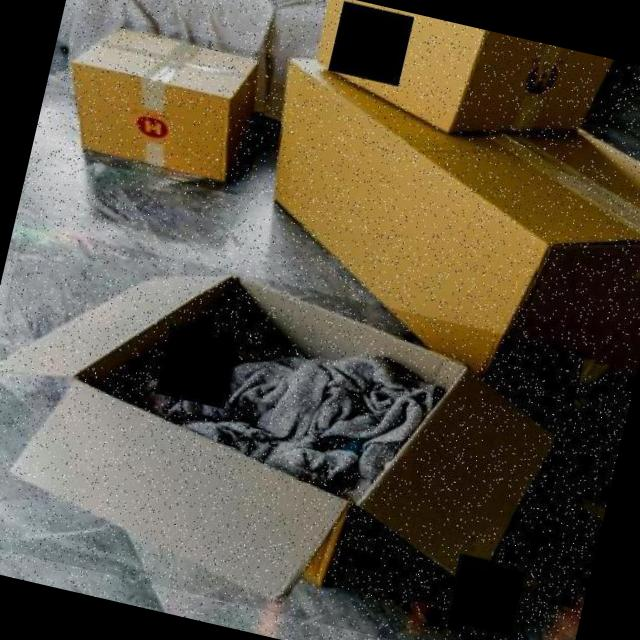box: (0, 223, 585, 640), (215, 41, 640, 433), (296, 0, 625, 170), (41, 8, 278, 197)
